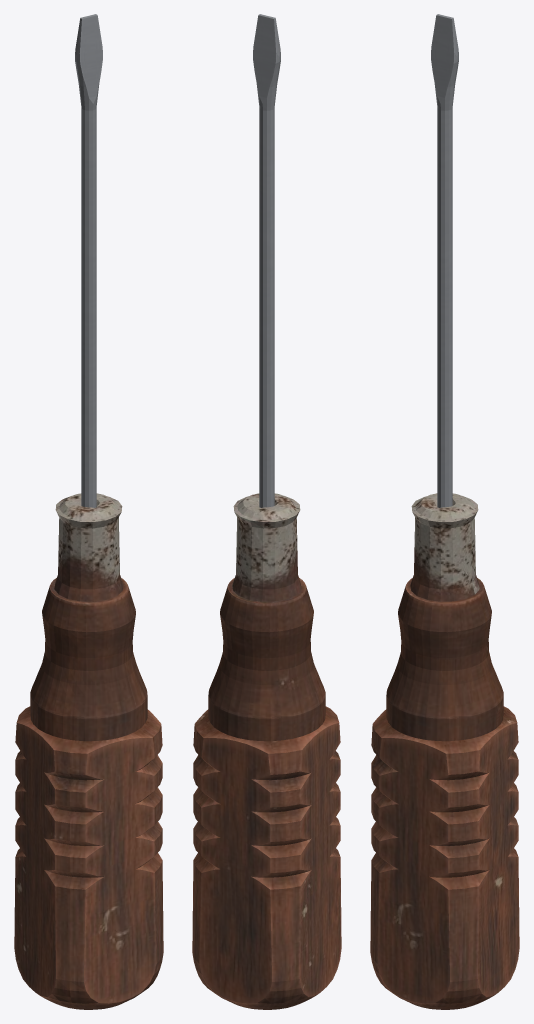
The model's file is FlatheadScrewdriver.obj.
The picture shows the model from 3 angles, left to right: view 1: azimuth 30°, elevation 25°; view 2: azimuth 150°, elevation 25°; view 3: azimuth 330°, elevation 25°; orthographic projection.
Parts seen in each view (by area): view 1: Cylinder_005; view 2: Cylinder_005; view 3: Cylinder_005.
Part boxes in pixels (x1,y1,x2,y2): Cylinder_005: (14,14,163,1009); Cylinder_005: (192,14,341,1009); Cylinder_005: (370,14,519,1009).
Bounding box in the file's own units: 0.03 × 0.2613 × 0.03.
1 material, 1 textured.
